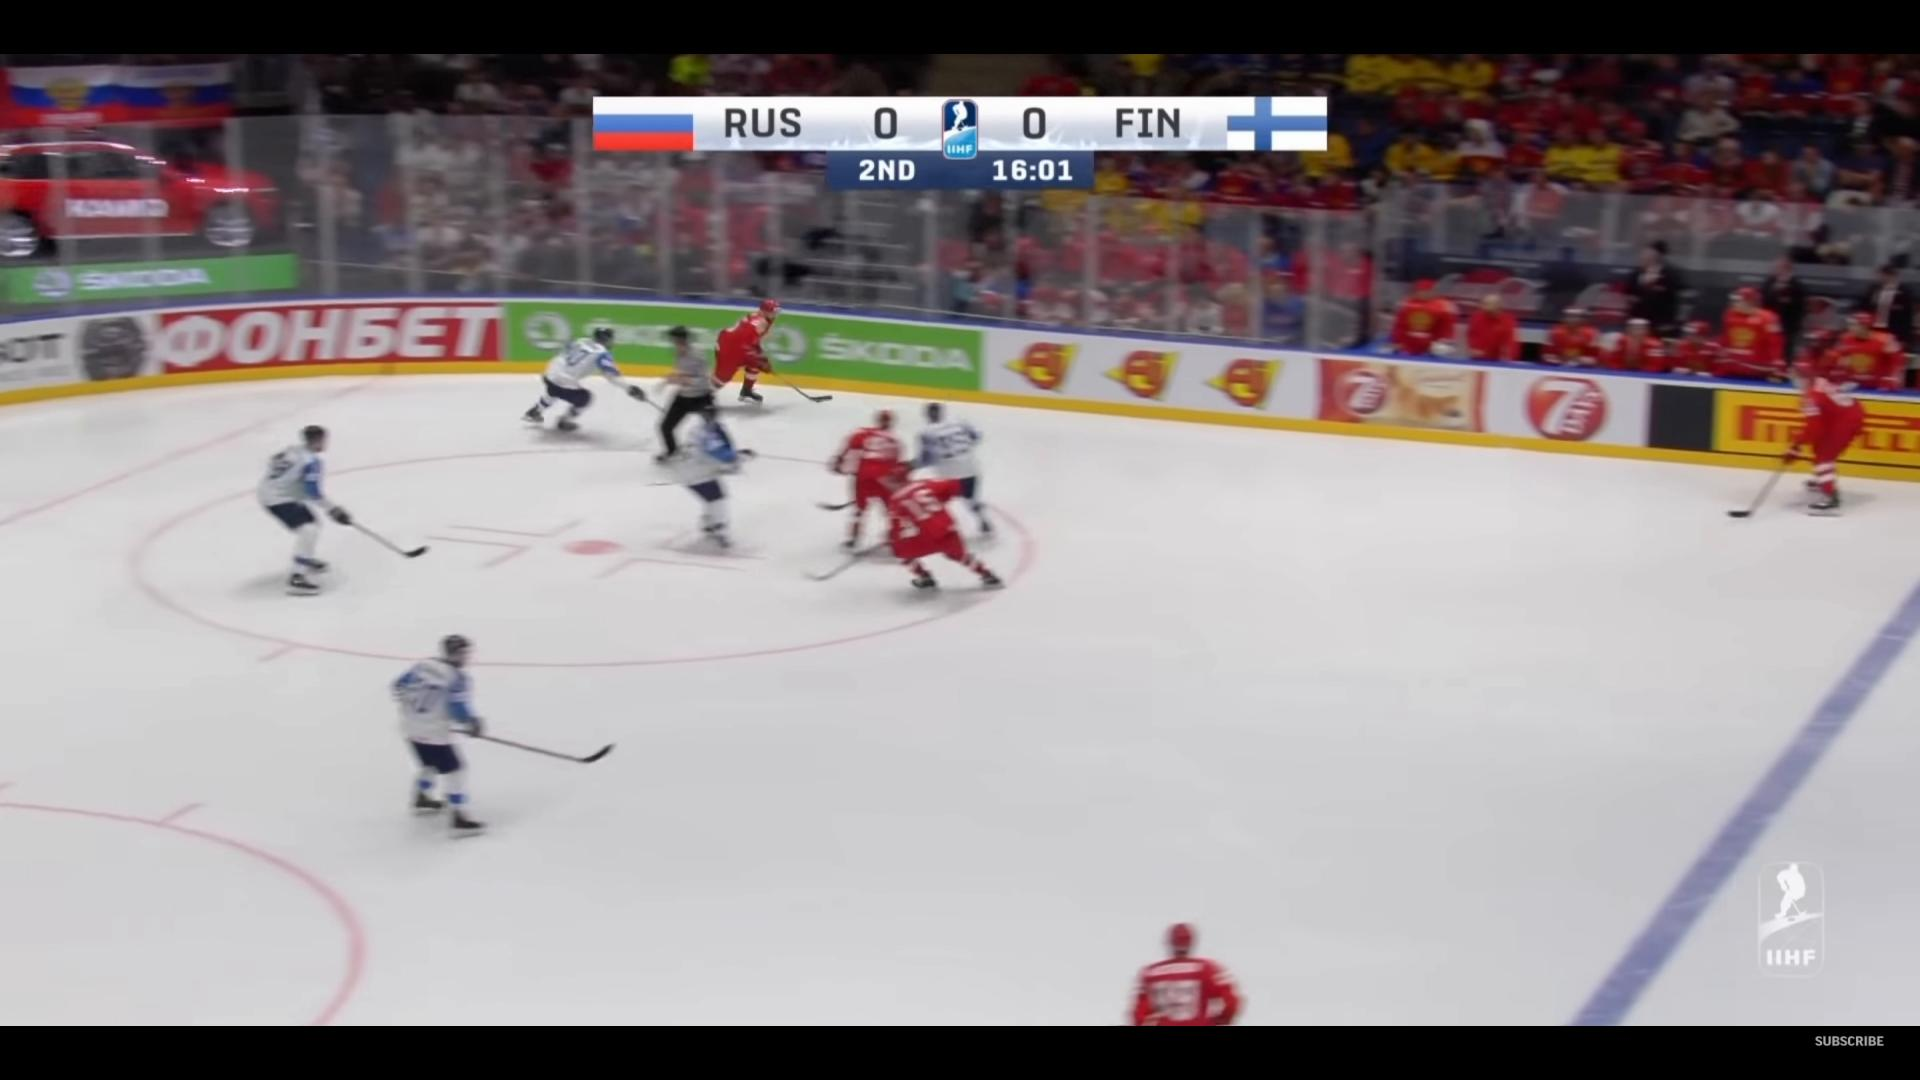puck: (815, 400, 823, 402)
